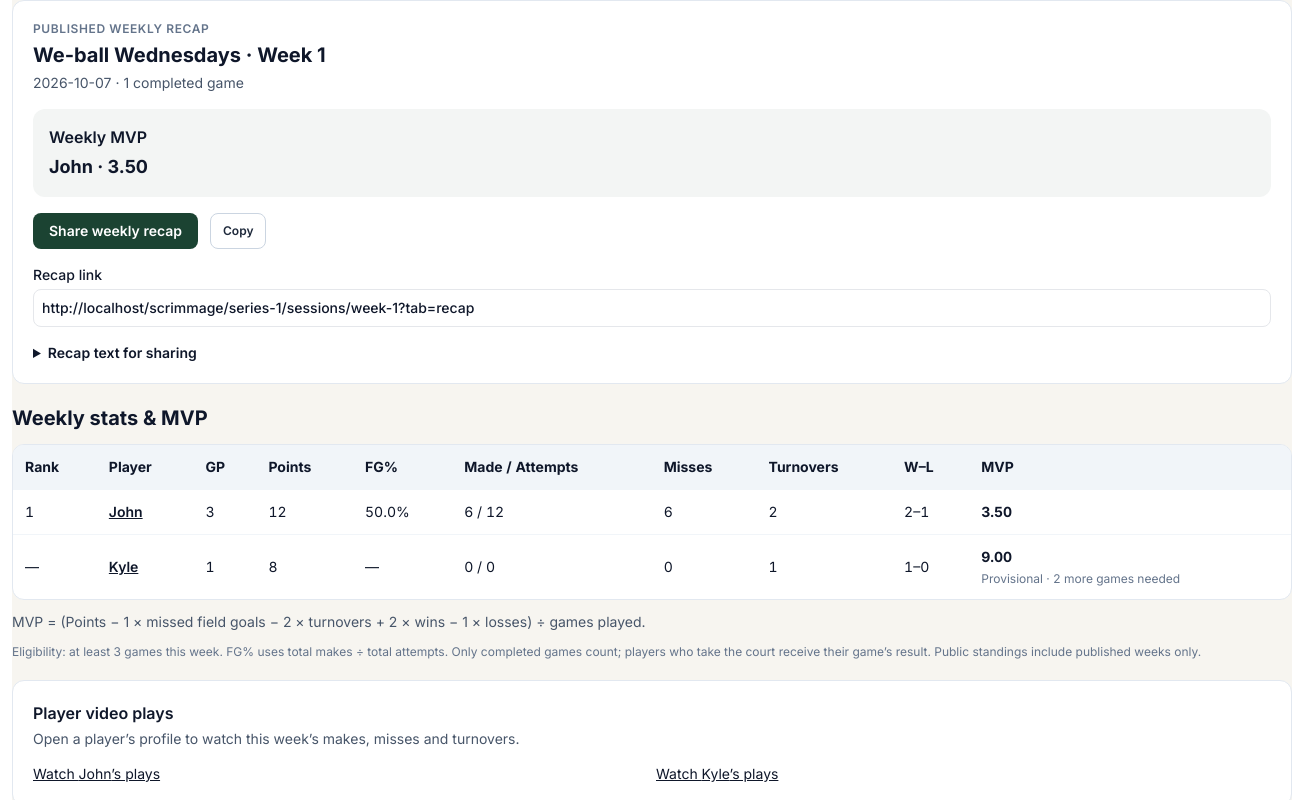
does not share a week that has become inaccessible
Click the button "Share weekly recap" at (116, 231), box [33,213,198,249]
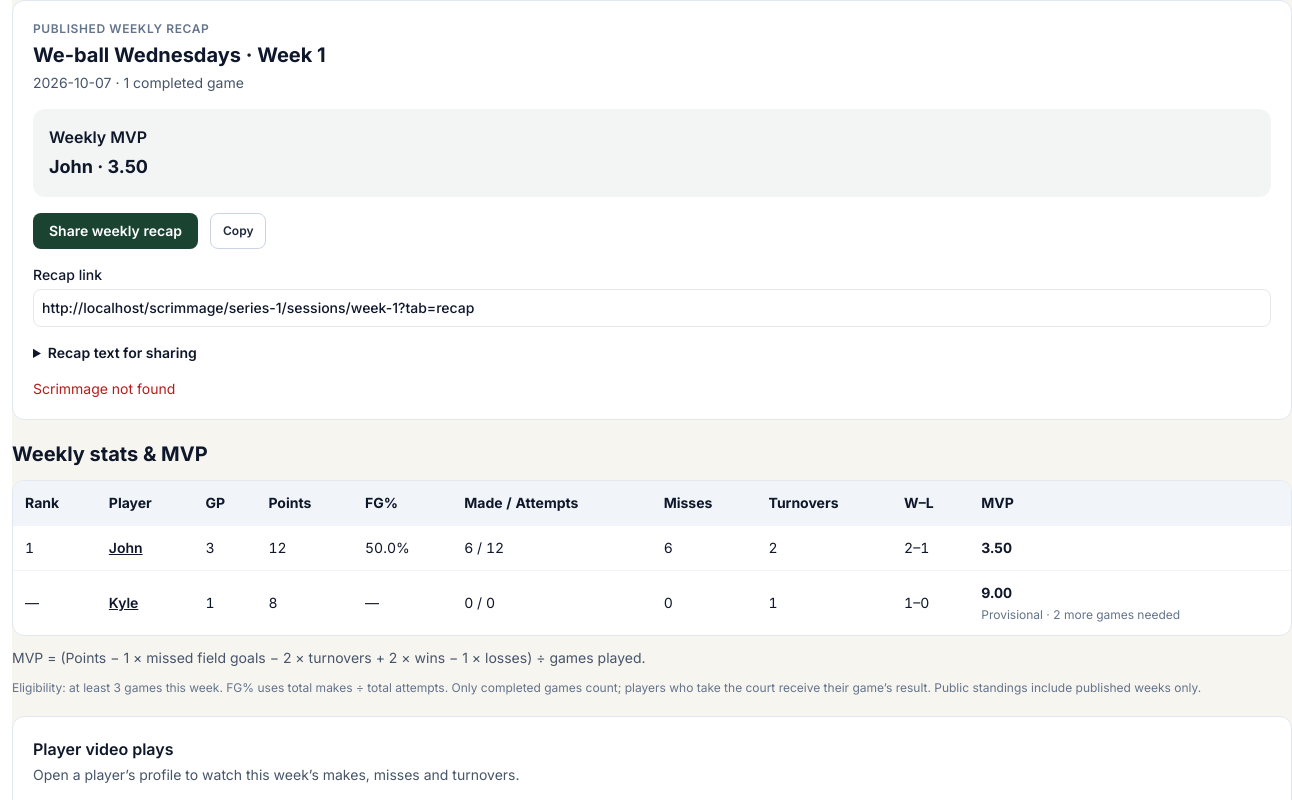
expect the message "Scrimmage not found" is shown: met, box [33,380,175,397]
